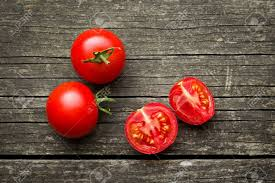tomato: (45, 82, 101, 141), (71, 29, 126, 84), (124, 104, 178, 156), (169, 78, 215, 126)
